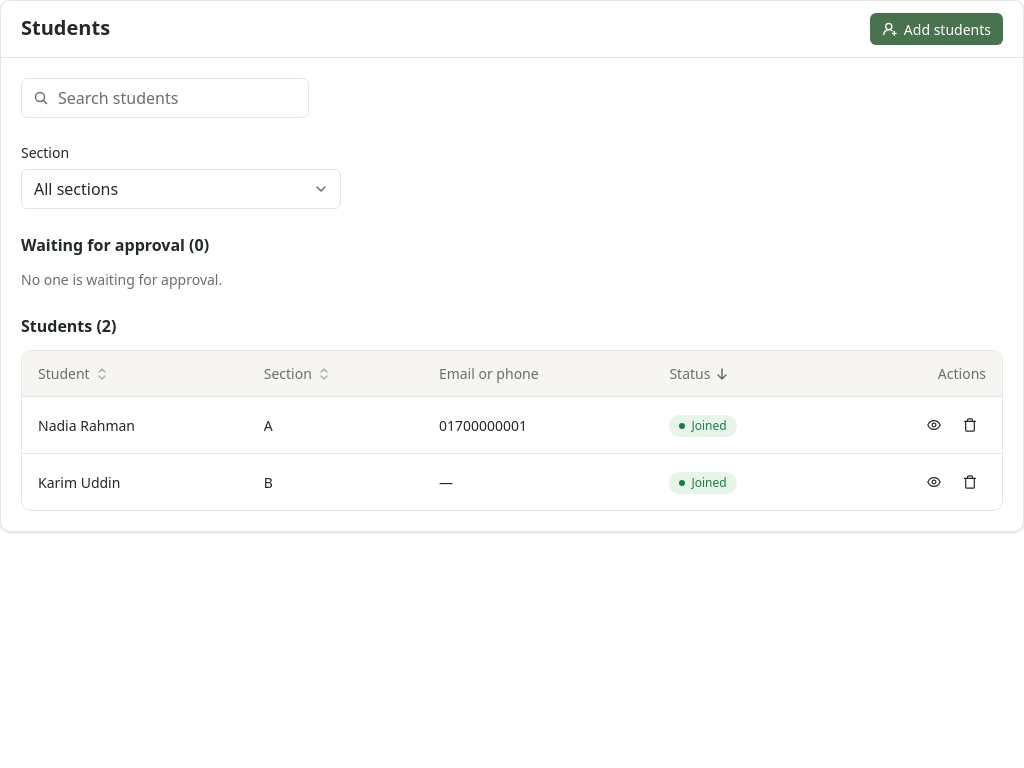
Test: class roster › shows each student's section and filters by section once there are two
The width and height of the screenshot is (1024, 768).
Expected: the column heading "Section" is shown, 248,351 -> 423,396
Expected: the text "Karim Uddin" is shown, 22,454 -> 248,510
Select "A" in the dropdown labelled "Section" at point(181, 189), box 21,169 -> 341,209
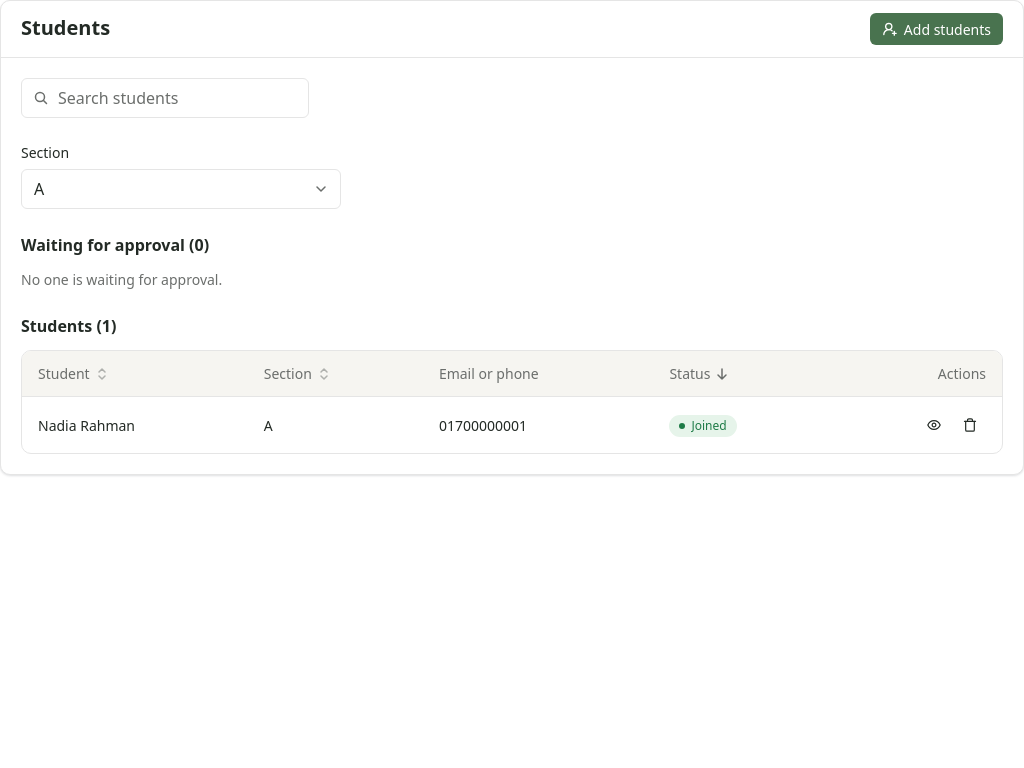
Expected: the text "Nadia Rahman" is shown, 22,396 -> 248,453
Result: the text "Karim Uddin" is gone
